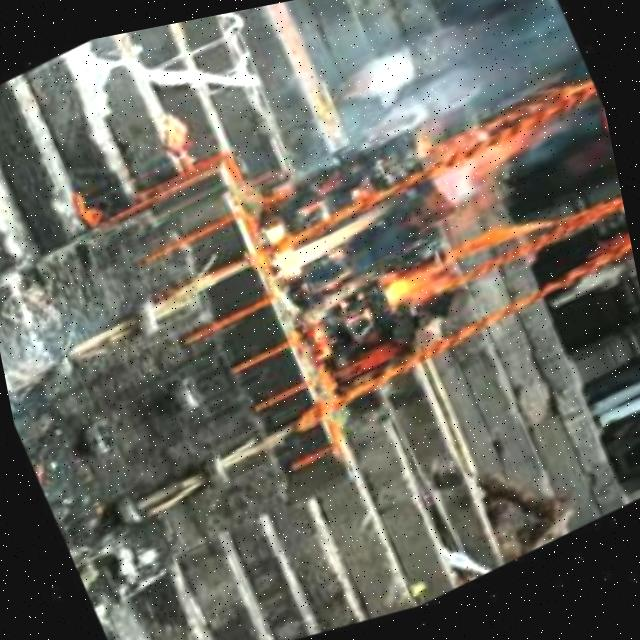fire: (242, 116, 576, 377)
